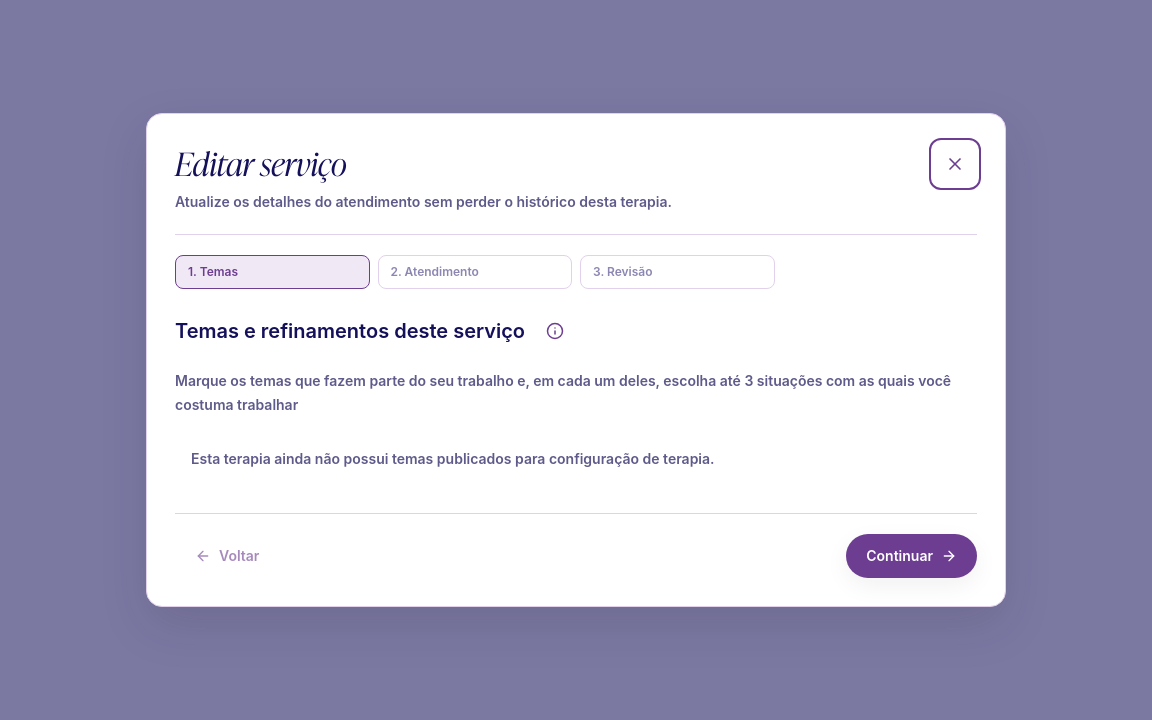
Test: TherapistServicesPage › does not advance when the description is shorter than 20 characters
Click the button "Continuar" at (912, 556), box 846,534 -> 977,578
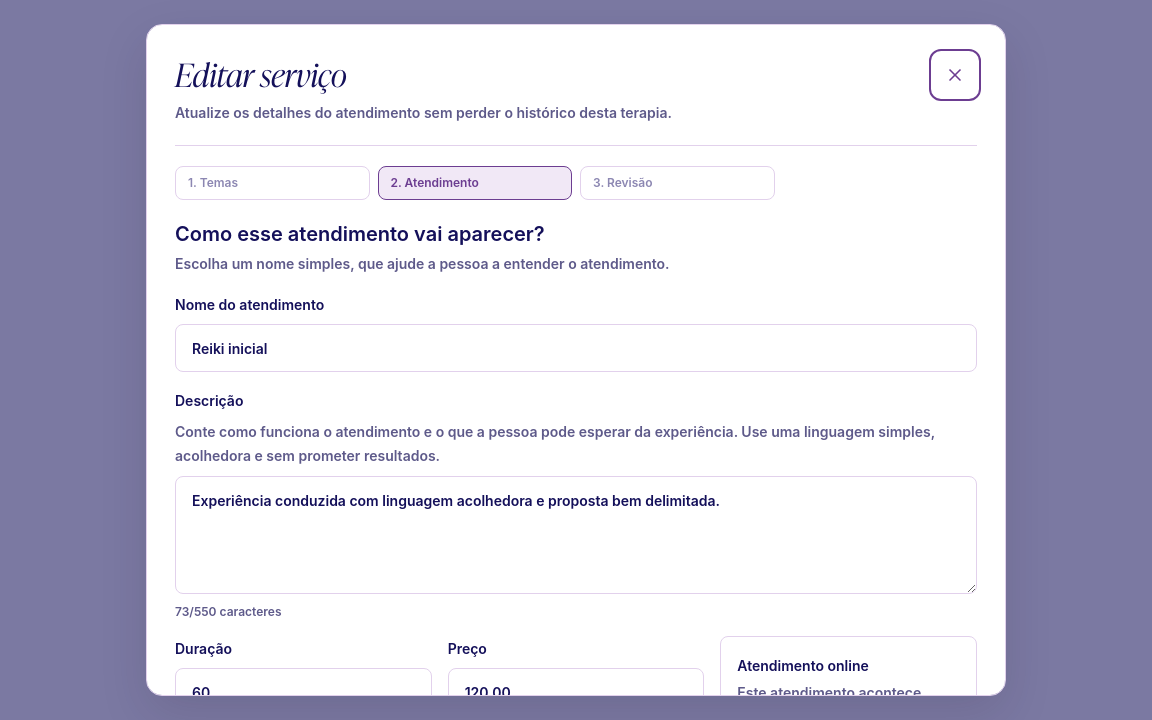
Replace the text in the text box labelled "Descrição" with "Descrição curta" at (576, 535), box 175,476 -> 977,594
(page scrolled)
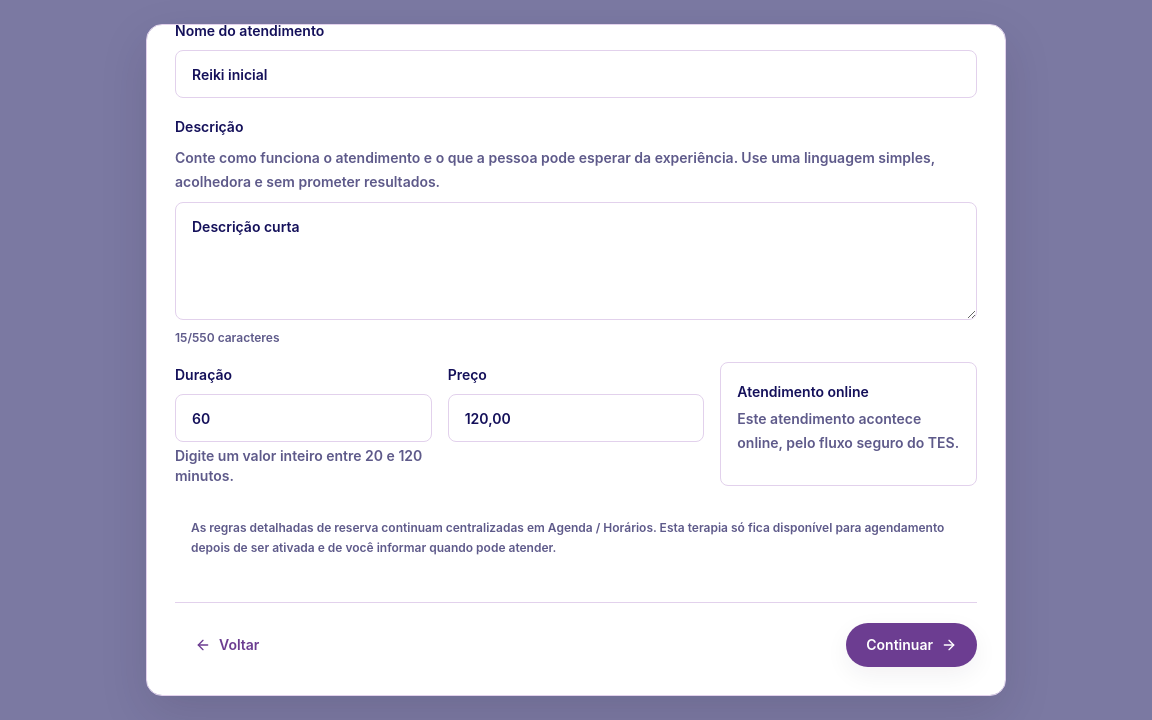
Click the button "Continuar" at (912, 645), box 846,623 -> 977,667
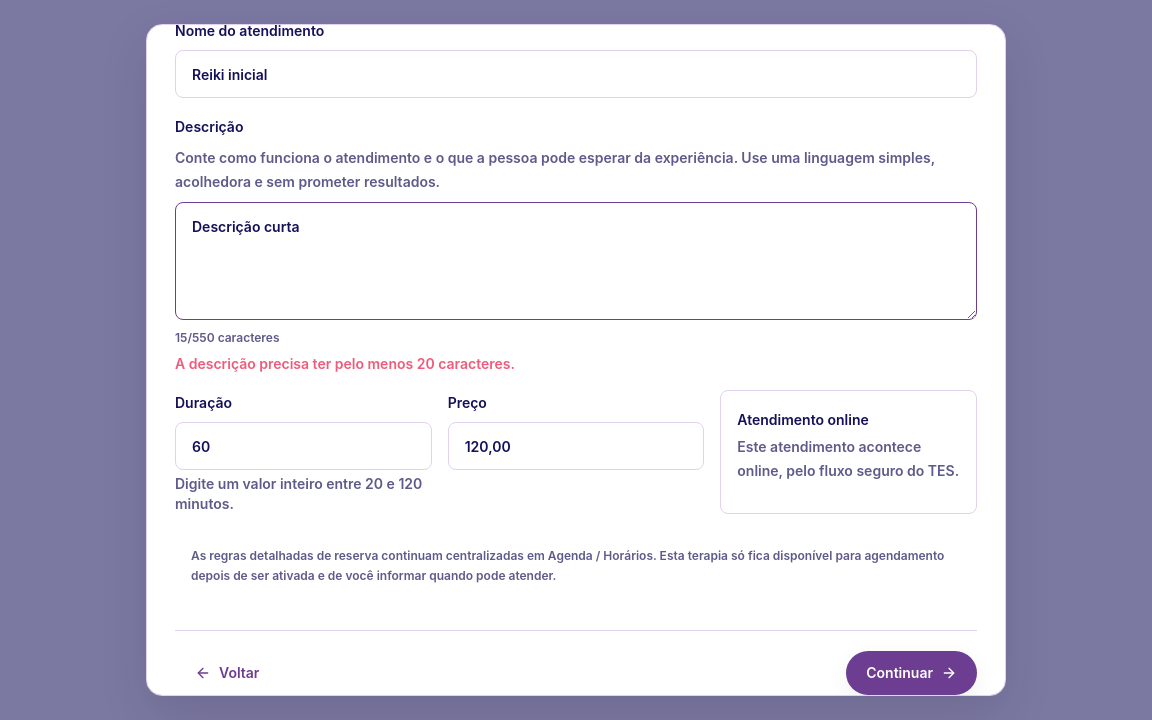
Result: the text "A descrição precisa ter pelo menos 20 caracteres." is shown at 175,355 -> 515,372
